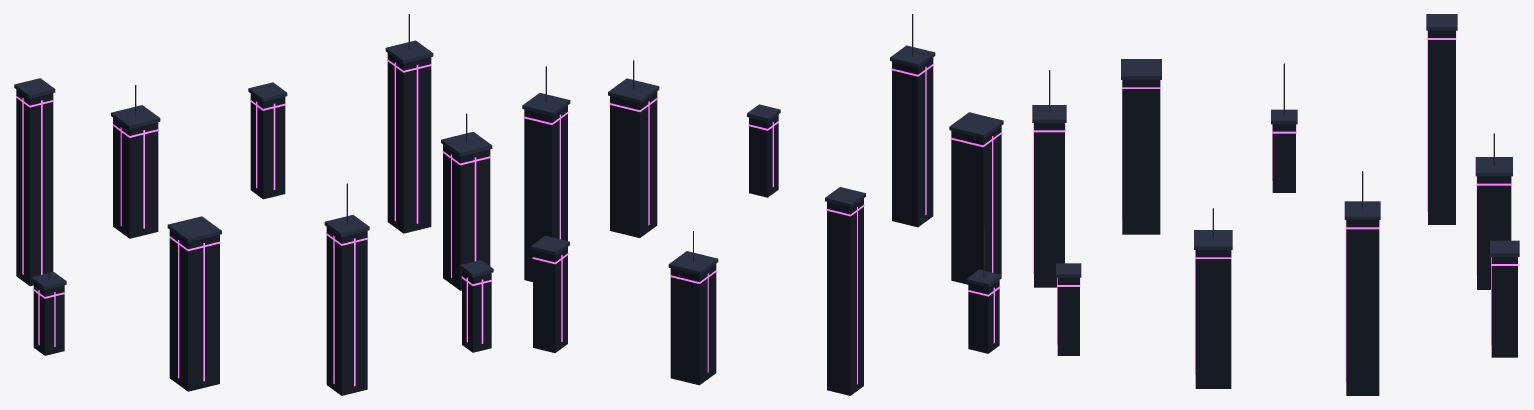
3 views of the same model, side by side, from view 1: azimuth 30°, elevation 25°; view 2: azimuth 150°, elevation 25°; view 3: azimuth 270°, elevation 25° (orthographic). The views are drawn at different scales.
Visible parts, largest first — view 1: nexo_spires_pixel.lod0; view 2: nexo_spires_pixel.lod0; view 3: nexo_spires_pixel.lod0.
Boxes of the visible parts, x1,y1,x2,y2 form: nexo_spires_pixel.lod0: [14, 14, 493, 395]; nexo_spires_pixel.lod0: [522, 14, 1003, 395]; nexo_spires_pixel.lod0: [1032, 14, 1519, 395].
Size of the model in its own units: 25.99 by 12.3 by 24.95.
